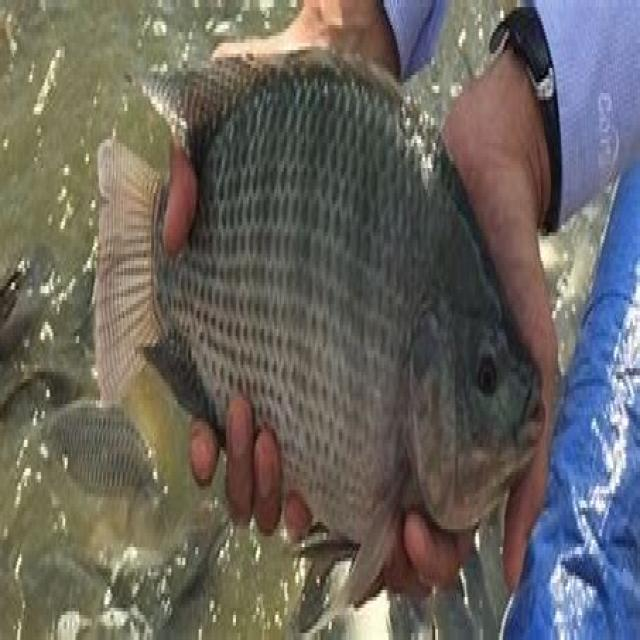Tilapia: (95, 52, 547, 615)
